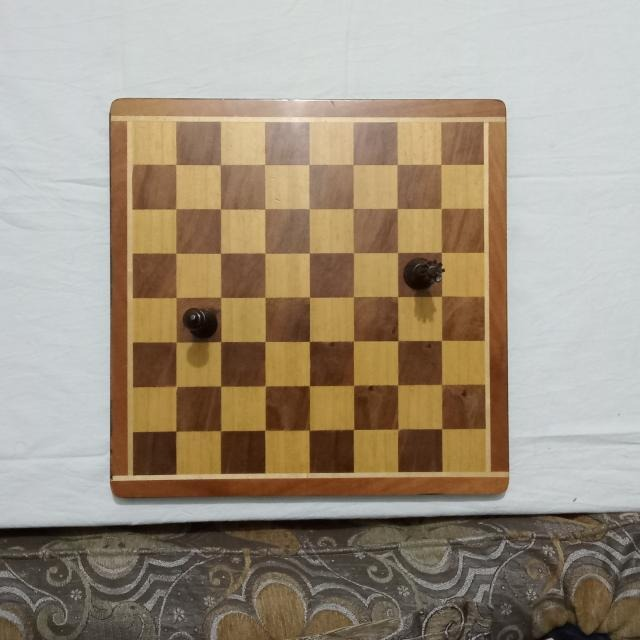black-king: (183, 305, 219, 339)
black-queen: (404, 258, 444, 293)
